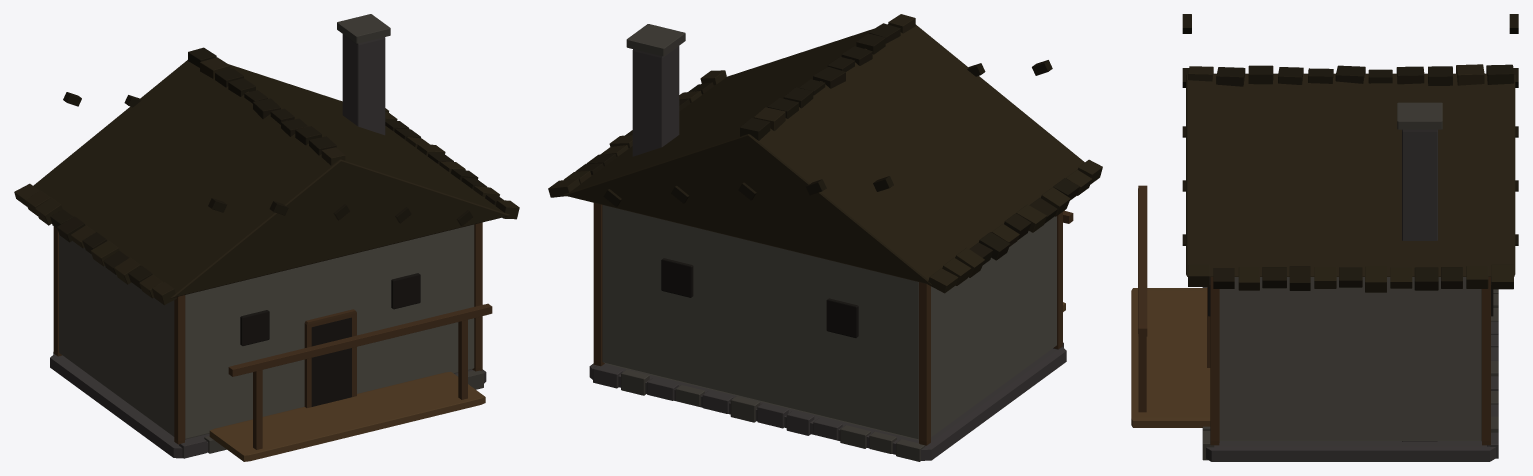
Rendered from house_large.glb.
3 renders of one model, left to right at view 1: azimuth 30°, elevation 25°; view 2: azimuth 150°, elevation 25°; view 3: azimuth 270°, elevation 25°, orthographic. The views are drawn at different scales.
Parts seen in each view (by area): view 1: house_large; view 2: house_large; view 3: house_large.
Part boxes in pixels (left/top/right/bottom): house_large: left=14, top=14, right=519, bottom=461; house_large: left=548, top=14, right=1102, bottom=461; house_large: left=1131, top=14, right=1518, bottom=461.
Size of the model in its own units: 8.29 by 6.41 by 6.71.
